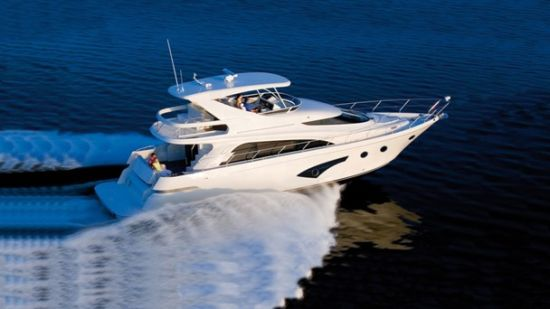yacht: (99, 67, 448, 220)
